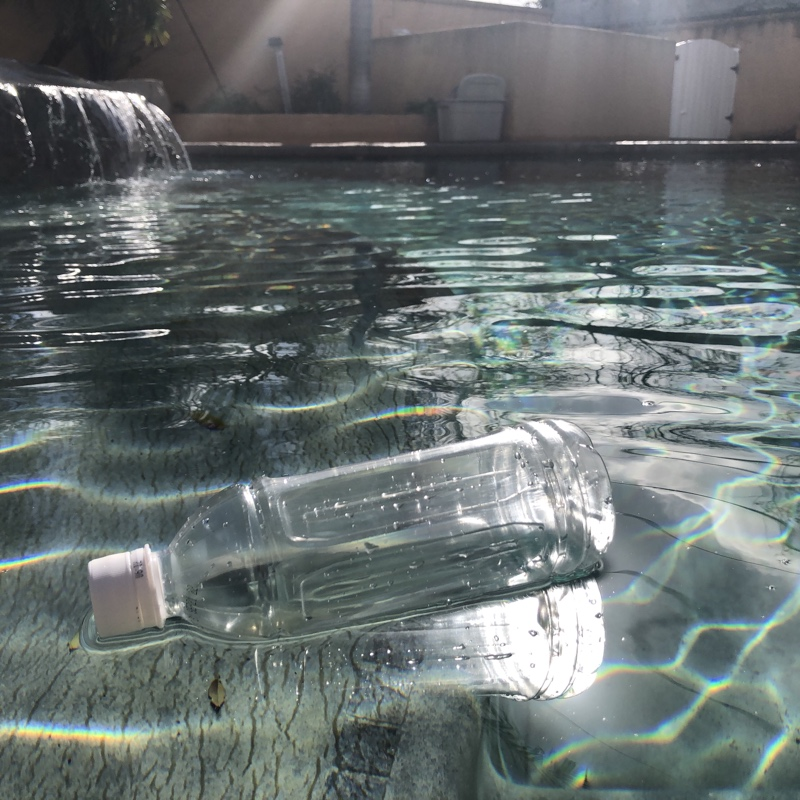Plastic Bottle: (81, 411, 619, 645)
